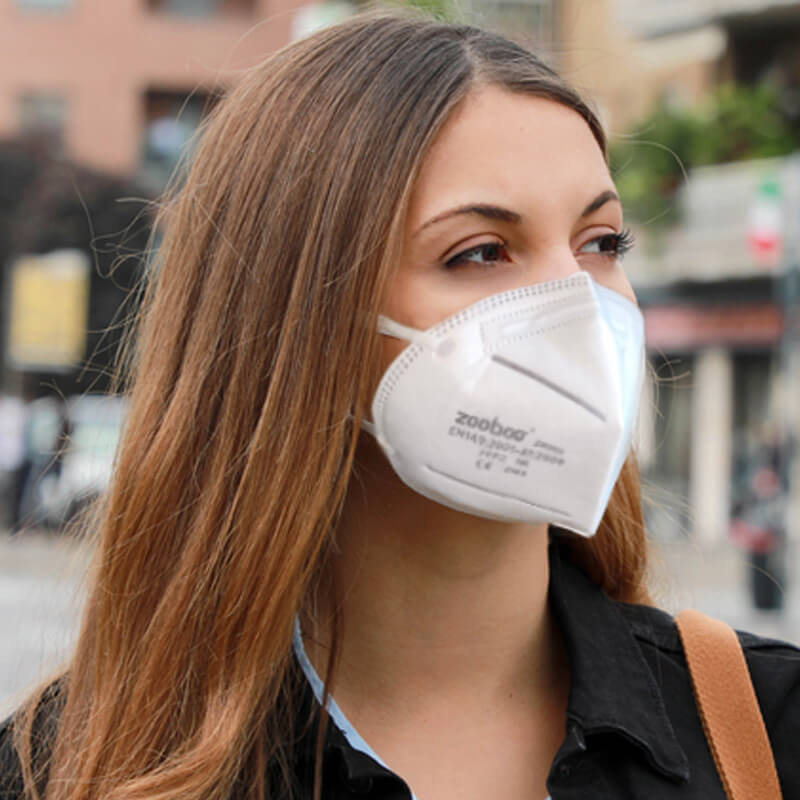with_mask: (364, 179, 631, 537)
